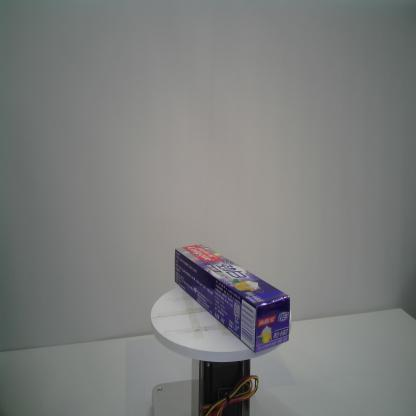Personal Hygiene: (174, 244, 290, 352)
